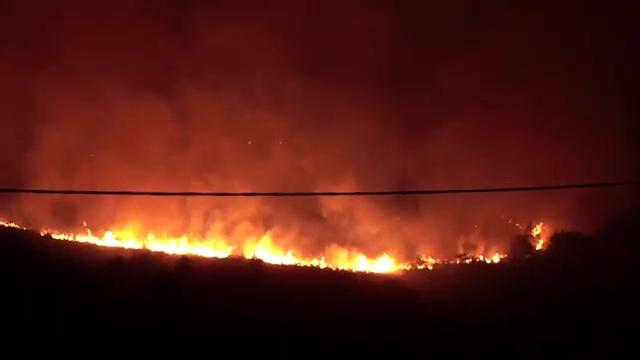fire: (150, 232, 231, 255), (347, 252, 400, 274), (75, 230, 134, 247), (255, 242, 295, 263)
smoke: (160, 30, 469, 184)
